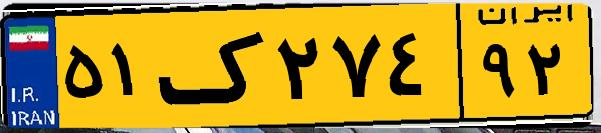1: (110, 28, 158, 98)
2: (270, 28, 330, 110), (525, 38, 570, 115)
4: (385, 28, 445, 110)
5: (57, 26, 110, 100)
7: (330, 28, 385, 110)
9: (475, 38, 525, 113)
ک: (158, 12, 270, 120)
